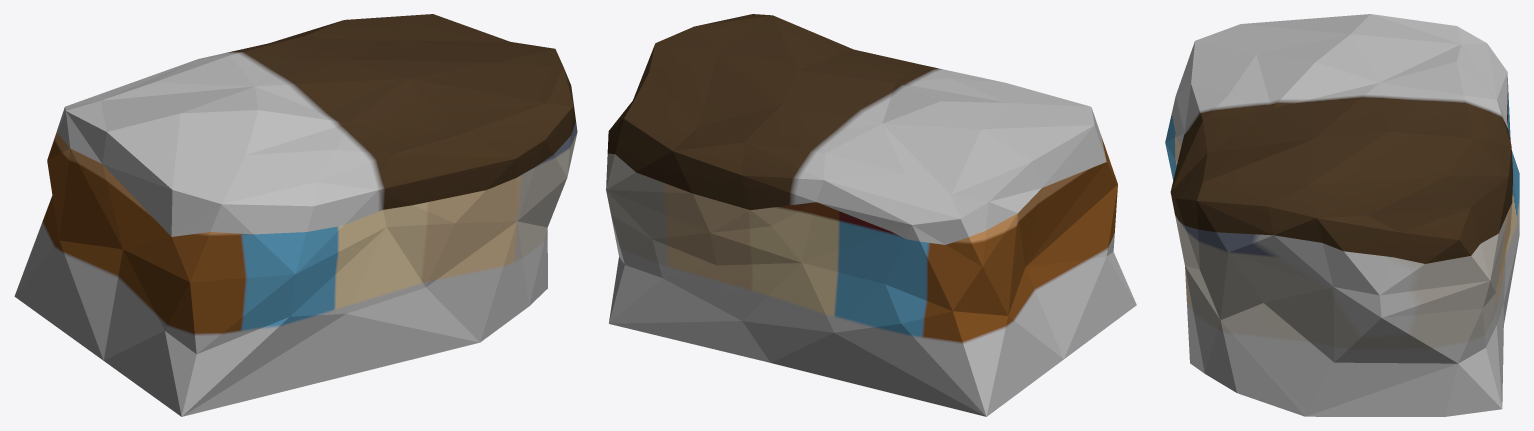
The model's file is Rock_03.fbx.
The picture shows the model from 3 angles, left to right: view 1: azimuth 30°, elevation 25°; view 2: azimuth 150°, elevation 25°; view 3: azimuth 270°, elevation 25°; orthographic projection. The views are drawn at different scales.
Parts seen in each view (by area): view 1: Rock_03; view 2: Rock_03; view 3: Rock_03.
Part boxes in pixels (x1,y1,x2,y2): Rock_03: (14, 14, 577, 416); Rock_03: (606, 14, 1136, 416); Rock_03: (1165, 14, 1519, 416).
Bounding box in the file's own units: 7.53 × 3.66 × 5.24.
